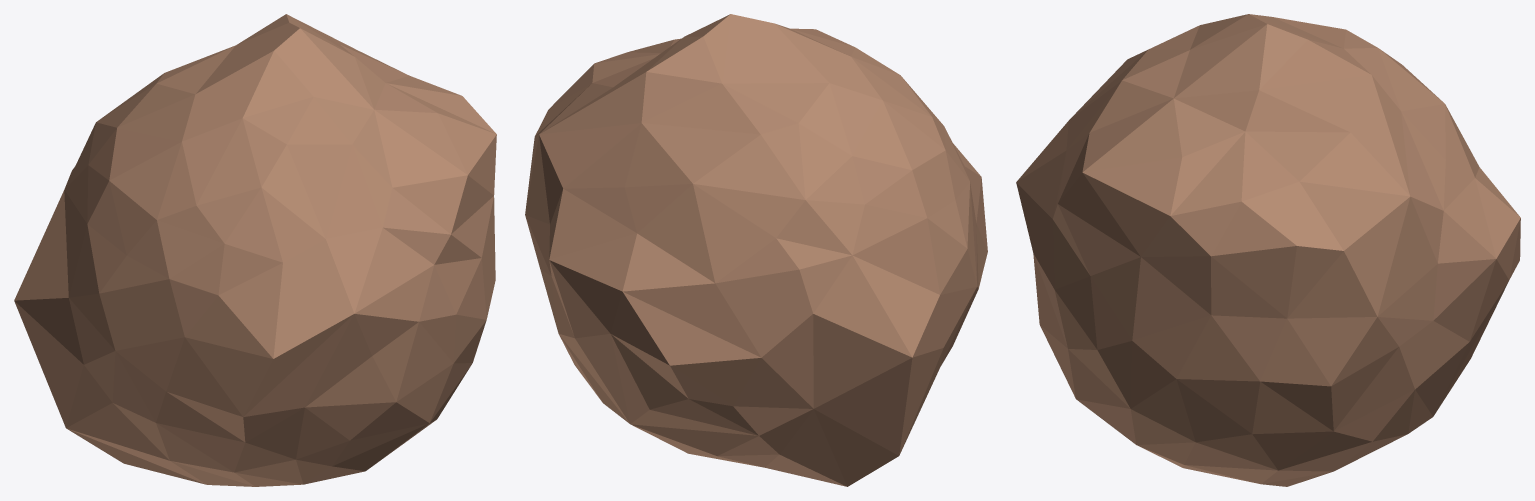
The model's file is dry_planet8.fbx.
3 views of the same model, side by side, from view 1: azimuth 30°, elevation 25°; view 2: azimuth 150°, elevation 25°; view 3: azimuth 270°, elevation 25° (orthographic). The views are drawn at different scales.
Parts seen in each view (by area): view 1: dry_planet8; view 2: dry_planet8; view 3: dry_planet8.
Boxes of the visible parts, <box> form: dry_planet8: <box>14,14,496,486</box>; dry_planet8: <box>525,14,987,486</box>; dry_planet8: <box>1016,14,1520,486</box>.
Size of the model in its own units: 210 by 214 by 215.
